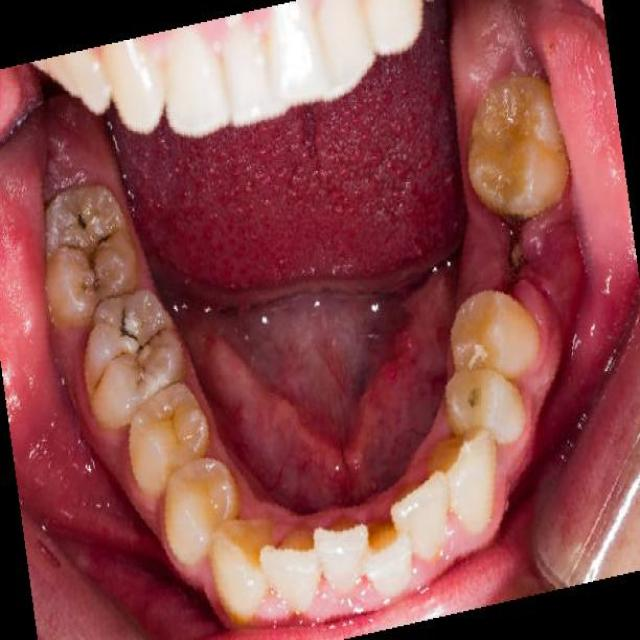caries: (84, 232, 118, 287), (66, 202, 95, 238), (111, 306, 135, 347), (462, 382, 486, 418), (141, 325, 165, 351)
